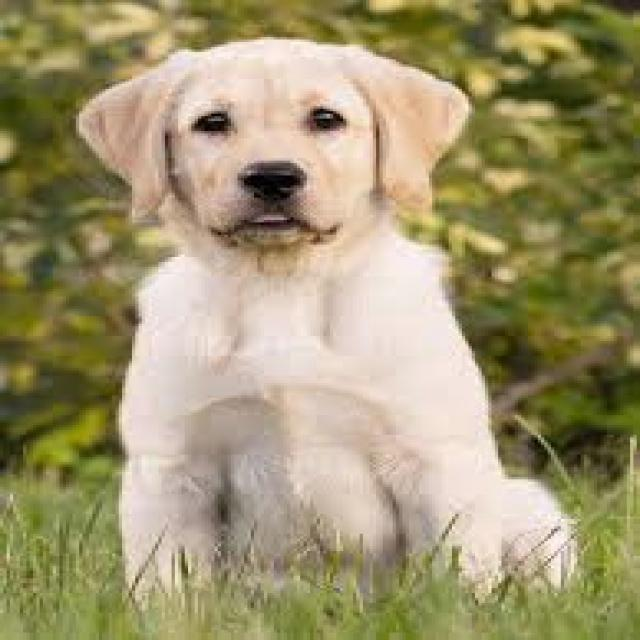dog: (76, 37, 574, 598)
